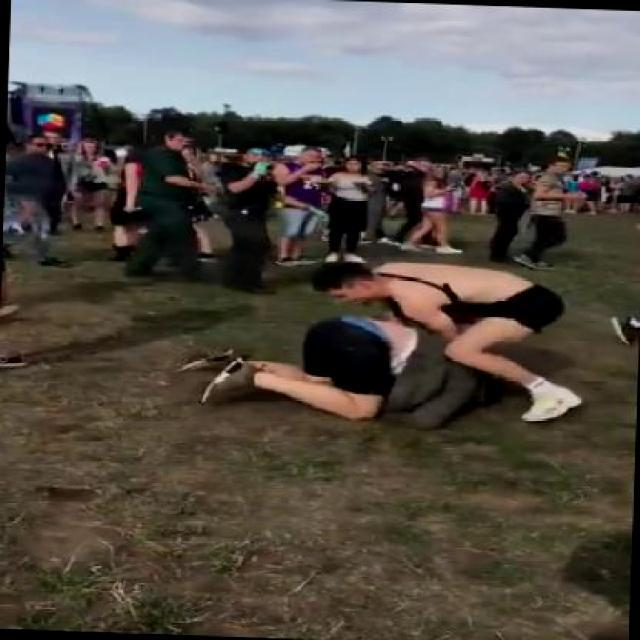fight: (176, 254, 587, 431)
